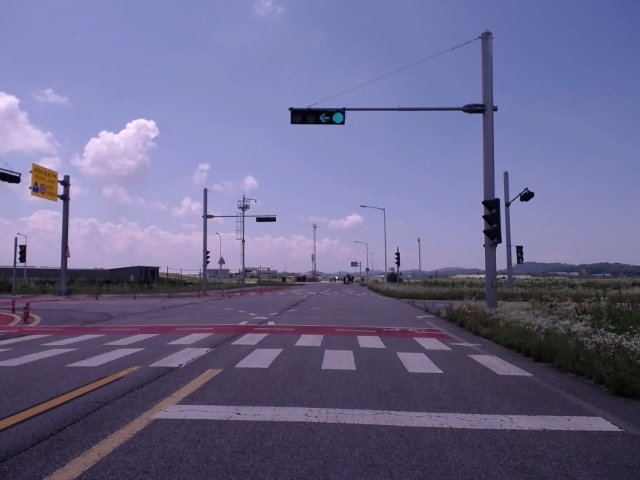all_green_4: (291, 107, 345, 124)
